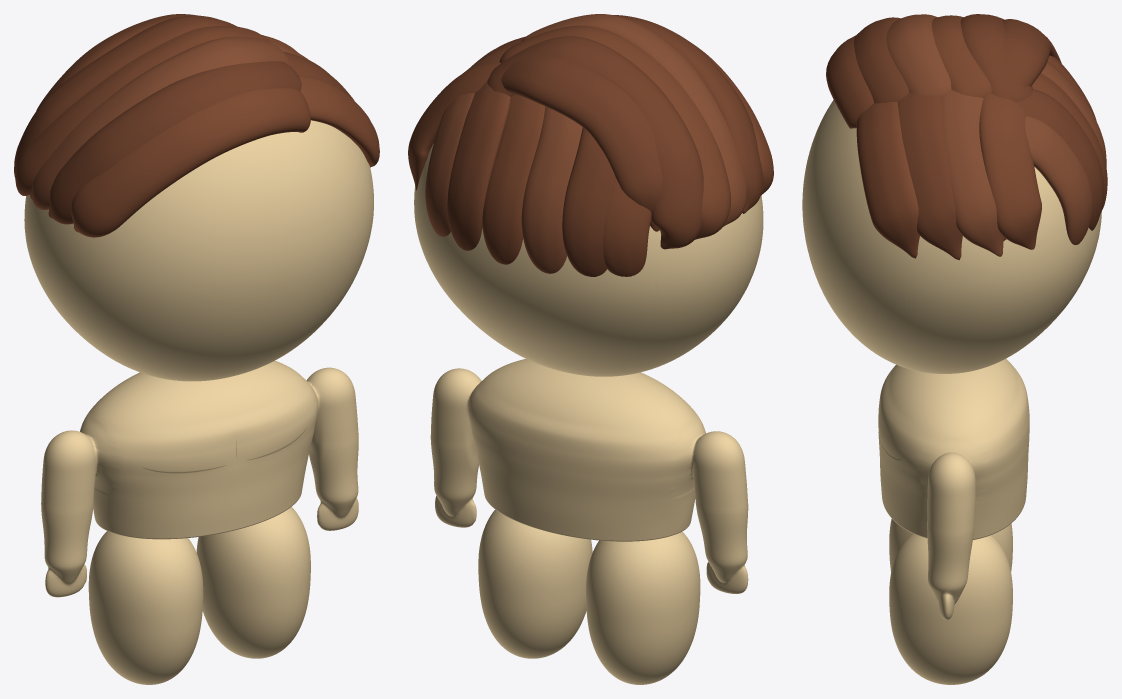
Rendered from Masculine-shirtless-hands-paddle-base.glb.
3 views of the same model, side by side, from view 1: azimuth 30°, elevation 25°; view 2: azimuth 150°, elevation 25°; view 3: azimuth 270°, elevation 25° (orthographic).
Parts seen in each view (by area): view 1: Skin / soft oval head, Skin / rounded torso, Skin / leg blob -1, Skin / leg blob 1, Hair / Side part main 0, Hair / Side part main 1, Hair / Side part main 2, Hair / Side part main 3, Hair / Side part main 4, Hair / Side part short 0, Hair / Side part crown, Hair / Side part short 1; view 2: Skin / rounded torso, Skin / soft oval head, Skin / leg blob -1, Skin / leg blob 1, Hair / Side part crown, Hair / Side part main 4, Hair / Side part nape 2, Hair / Side part main 3, Hair / Side part nape 3, Hair / Side part nape 4, Hair / Side part main 2, Hair / Side part nape 1 (+5 smaller); view 3: Skin / soft oval head, Skin / rounded torso, Skin / leg blob 1, Hair / Side part short 3, Hair / Side part short 0, Hair / Side part short 1, Hair / Side part short 2, Hair / Side part nape 5, Hair / Side part main 2, Hair / Side part nape 4, Hair / Side part main 4, Hair / Side part main 1 (+6 smaller).
Boxes of the visible parts, x1,y1,x2,y2 form: Skin / soft oval head: (24,120,373,381); Skin / rounded torso: (41,360,358,597); Skin / leg blob -1: (88,531,203,684); Skin / leg blob 1: (196,507,310,658); Hair / Side part main 0: (71,88,310,237); Hair / Side part main 1: (48,61,301,224); Hair / Side part main 2: (31,36,288,209); Hair / Side part main 3: (15,26,269,195); Hair / Side part main 4: (14,15,236,177); Hair / Side part short 0: (298,75,379,167); Hair / Side part crown: (36,14,197,110); Hair / Side part short 1: (283,51,354,100); Skin / rounded torso: (430,359,748,593); Skin / soft oval head: (414,143,763,376); Skin / leg blob -1: (586,531,700,684); Skin / leg blob 1: (478,509,592,658); Hair / Side part crown: (501,55,662,231); Hair / Side part main 4: (487,36,703,249); Hair / Side part nape 2: (521,106,582,273); Hair / Side part main 3: (499,25,730,239); Hair / Side part nape 3: (482,94,545,264); Hair / Side part nape 4: (447,82,510,250); Hair / Side part main 2: (521,14,747,226); Hair / Side part nape 1: (562,127,615,276); Skin / soft oval head: (802,100,1101,373); Skin / rounded torso: (878,359,1029,619); Skin / leg blob 1: (889,533,1012,684); Hair / Side part short 3: (979,93,1041,249); Hair / Side part short 0: (856,102,919,258); Hair / Side part short 1: (897,93,962,260); Hair / Side part short 2: (940,89,1003,256); Hair / Side part nape 5: (1025,116,1092,244); Hair / Side part main 2: (886,14,951,96); Hair / Side part nape 4: (1016,89,1104,230); Hair / Side part main 4: (960,14,1032,102); Hair / Side part main 1: (854,17,909,103).
Size of the model in its own units: 0.9754 by 1.87 by 0.825.
